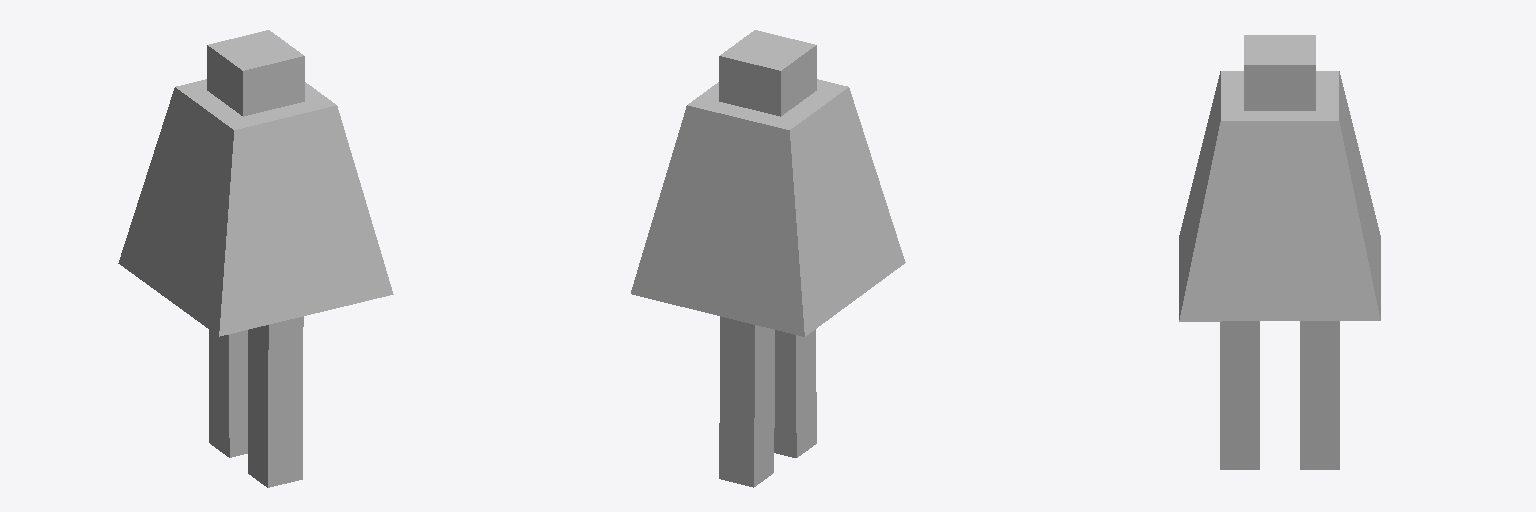
The model's file is essai_000047.obj.
3 renders of one model, left to right at view 1: azimuth 30°, elevation 25°; view 2: azimuth 150°, elevation 25°; view 3: azimuth 270°, elevation 25°, orthographic.
Visible parts, largest first — view 1: Cube; view 2: Cube; view 3: Cube.
Boxes of the visible parts, box(x1,y1,x2,y2) form: Cube: box(118, 30, 393, 487); Cube: box(631, 30, 905, 487); Cube: box(1179, 35, 1380, 469).
Size of the model in its own units: 2 by 4.5 by 2.